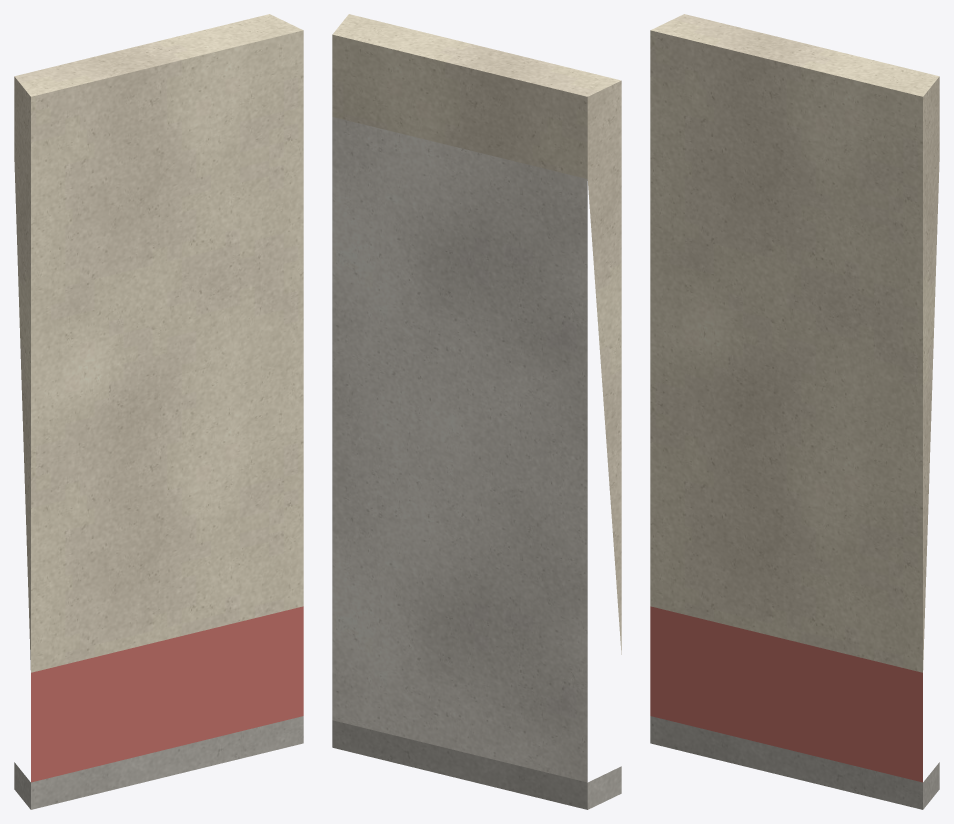
The model's file is f_plain.glb.
The picture shows the model from 3 angles, left to right: view 1: azimuth 30°, elevation 25°; view 2: azimuth 150°, elevation 25°; view 3: azimuth 330°, elevation 25°; orthographic projection.
Parts seen in each view (by area): view 1: f_plain_render, f_plain_tile_r, f_plain_concrete; view 2: f_plain_plaster, f_plain_render, f_plain_concrete; view 3: f_plain_render, f_plain_tile_r, f_plain_concrete.
Part boxes in pixels (x1,y1,x2,y2): f_plain_render: [14, 14, 303, 672]; f_plain_tile_r: [31, 606, 303, 782]; f_plain_concrete: [14, 716, 303, 809]; f_plain_plaster: [332, 117, 587, 782]; f_plain_render: [332, 14, 621, 654]; f_plain_concrete: [332, 720, 621, 809]; f_plain_render: [650, 14, 939, 672]; f_plain_tile_r: [650, 606, 922, 782]; f_plain_concrete: [650, 716, 939, 809].
Bounding box in the file's own units: 1.56 × 3.9 × 0.25.
4 materials, 3 textured.
